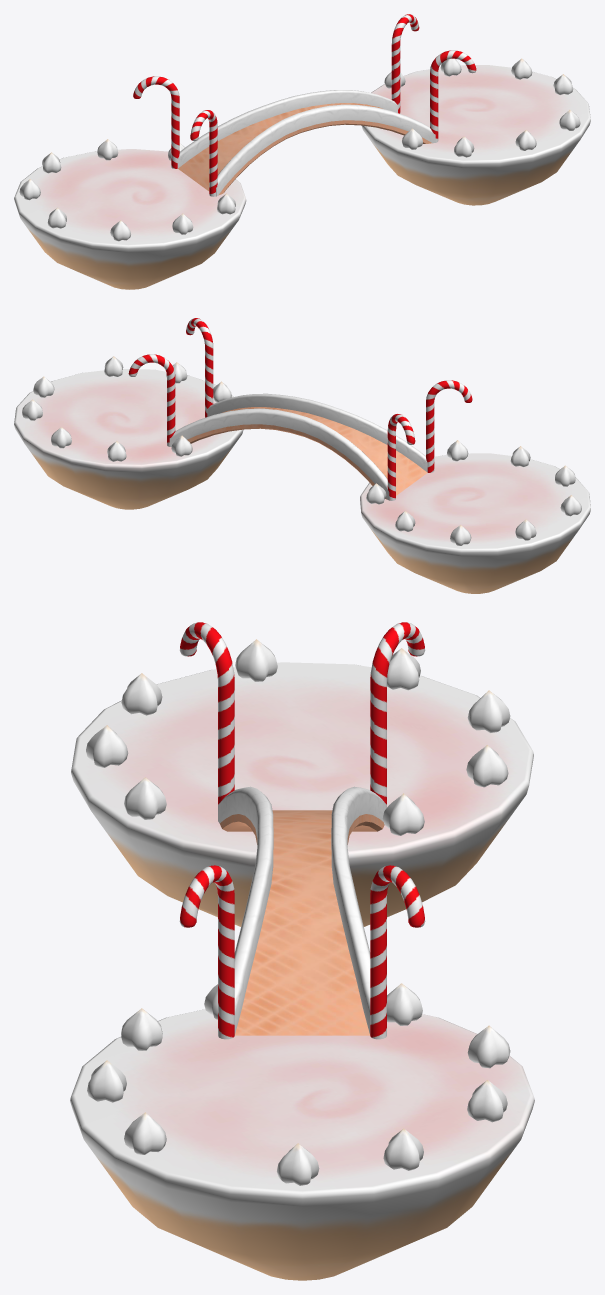
Rendered from floating_candy_land.fbx.
3 renders of one model, top to bottom at view 1: azimuth 30°, elevation 25°; view 2: azimuth 150°, elevation 25°; view 3: azimuth 270°, elevation 25°, orthographic. The views are drawn at different scales.
Parts seen in each view (by area): view 1: floating_candy_land; view 2: floating_candy_land; view 3: floating_candy_land.
Boxes of the visible parts, x1,y1,x2,y2 form: floating_candy_land: (14, 14, 590, 289); floating_candy_land: (14, 318, 590, 593); floating_candy_land: (70, 622, 534, 1280).
Size of the model in its own units: 1398 by 421 by 516.
1 material, 1 textured.
